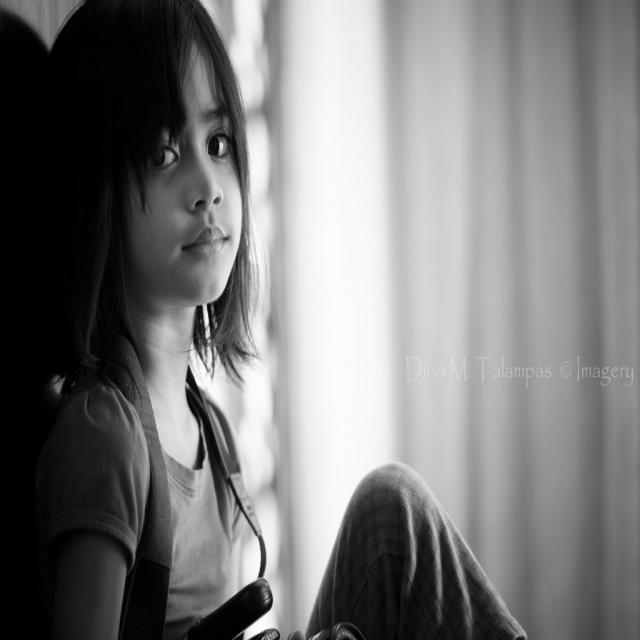closed-mouth: (184, 227, 230, 257)
